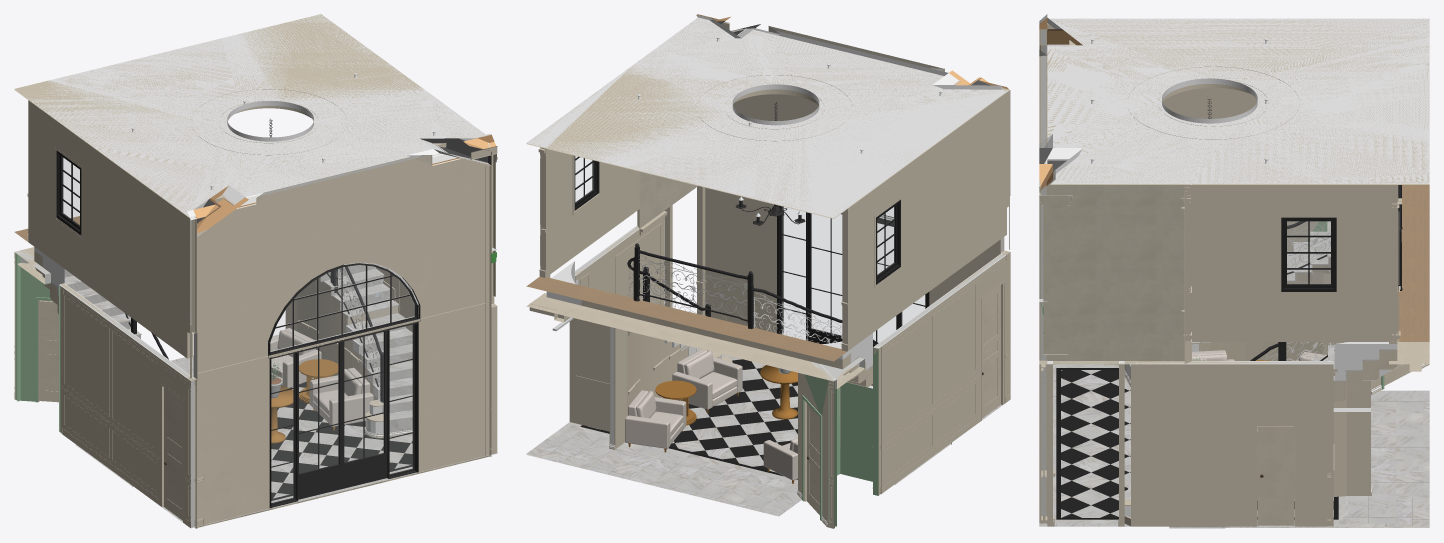
Rendered from entry-998a8993c4da.glb.
3 renders of one model, left to right at view 1: azimuth 30°, elevation 25°; view 2: azimuth 150°, elevation 25°; view 3: azimuth 270°, elevation 25°, orthographic. The views are drawn at different scales.
Visible parts, largest first — view 1: entry-9d91b47435c6fb33, entry-4edf3a9420c06709, entry-e8793759323e04f0, entry-698abdfdc6fb970d, entry-9ca48b730e5de4b2, entry-746250f96522f643, entry-85f0fd939e0fcc78, entry-8d5f500af8e4c699, entry-785988ccf932ddd5, entry-969fb0f33943ba89, entry-c4ac463b6a960119, entry-a5eabba2ad6474eb (+18 smaller); view 2: entry-9d91b47435c6fb33, entry-746250f96522f643, entry-e8793759323e04f0, entry-85f0fd939e0fcc78, entry-2575515a05775d9e, entry-d5a4a1b5d3594c04, entry-698abdfdc6fb970d, entry-ba376bd68a22f7f3, entry-c4ac463b6a960119, entry-c51ecd664a3b22a3, entry-8b5649904563319a, entry-6a051330000fbca1 (+28 smaller); view 3: entry-9d91b47435c6fb33, entry-6a051330000fbca1, entry-c51ecd664a3b22a3, entry-e8793759323e04f0, entry-62353aa10fc57f23, entry-c4ac463b6a960119, entry-ba376bd68a22f7f3, entry-2575515a05775d9e, entry-20932135983111ad, entry-489e9ad801b4b62e, entry-80d276f58a4dc5cb, entry-224035c89a69c041 (+18 smaller).
Part boxes in pixels (<box>): entry-9d91b47435c6fb33: <box>14,14,485,218</box>; entry-4edf3a9420c06709: <box>195,150,491,372</box>; entry-e8793759323e04f0: <box>14,14,483,217</box>; entry-698abdfdc6fb970d: <box>269,322,418,508</box>; entry-9ca48b730e5de4b2: <box>195,302,490,526</box>; entry-746250f96522f643: <box>28,100,192,358</box>; entry-85f0fd939e0fcc78: <box>60,283,192,525</box>; entry-8d5f500af8e4c699: <box>268,262,420,358</box>; entry-785988ccf932ddd5: <box>196,150,491,373</box>; entry-969fb0f33943ba89: <box>196,302,490,526</box>; entry-c4ac463b6a960119: <box>271,379,412,498</box>; entry-a5eabba2ad6474eb: <box>14,251,50,401</box>; entry-9d91b47435c6fb33: <box>526,17,1008,218</box>; entry-746250f96522f643: <box>842,92,1006,350</box>; entry-e8793759323e04f0: <box>528,18,1008,210</box>; entry-85f0fd939e0fcc78: <box>873,253,1006,494</box>; entry-2575515a05775d9e: <box>526,275,851,381</box>; entry-d5a4a1b5d3594c04: <box>706,188,1007,389</box>; entry-698abdfdc6fb970d: <box>777,205,929,346</box>; entry-ba376bd68a22f7f3: <box>540,428,800,515</box>; entry-c4ac463b6a960119: <box>586,354,797,472</box>; entry-c51ecd664a3b22a3: <box>540,147,639,277</box>; entry-8b5649904563319a: <box>570,281,609,431</box>; entry-6a051330000fbca1: <box>569,219,663,421</box>; entry-9d91b47435c6fb33: <box>1041,18,1429,184</box>; entry-6a051330000fbca1: <box>1131,361,1333,526</box>; entry-c51ecd664a3b22a3: <box>1192,184,1398,341</box>; entry-e8793759323e04f0: <box>1042,14,1429,183</box>; entry-62353aa10fc57f23: <box>1047,184,1191,364</box>; entry-c4ac463b6a960119: <box>1061,370,1333,517</box>; entry-ba376bd68a22f7f3: <box>1348,390,1429,523</box>; entry-2575515a05775d9e: <box>1389,185,1429,364</box>; entry-20932135983111ad: <box>1281,217,1336,291</box>; entry-489e9ad801b4b62e: <box>1043,195,1067,354</box>; entry-80d276f58a4dc5cb: <box>1257,426,1294,525</box>; entry-224035c89a69c041: <box>1346,380,1370,495</box>.
Size of the model in its own units: 6.54 by 6.44 by 6.51.
48 materials, 9 textured.
